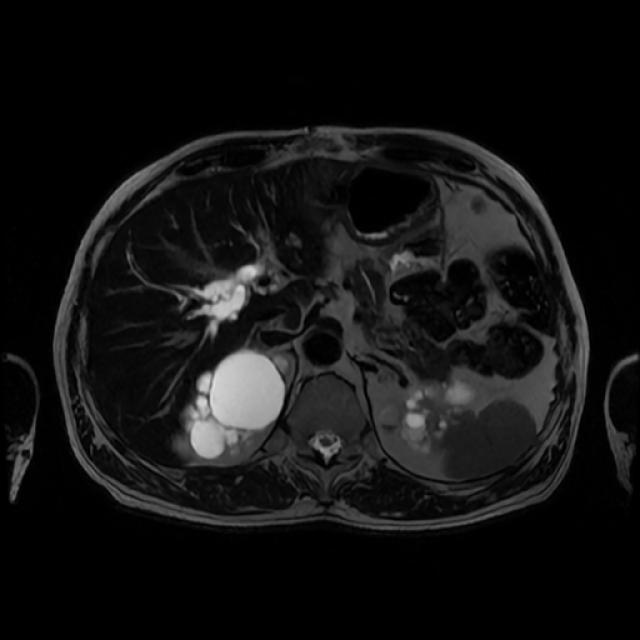sag: (181, 350, 292, 460)
sol: (381, 380, 482, 454)
